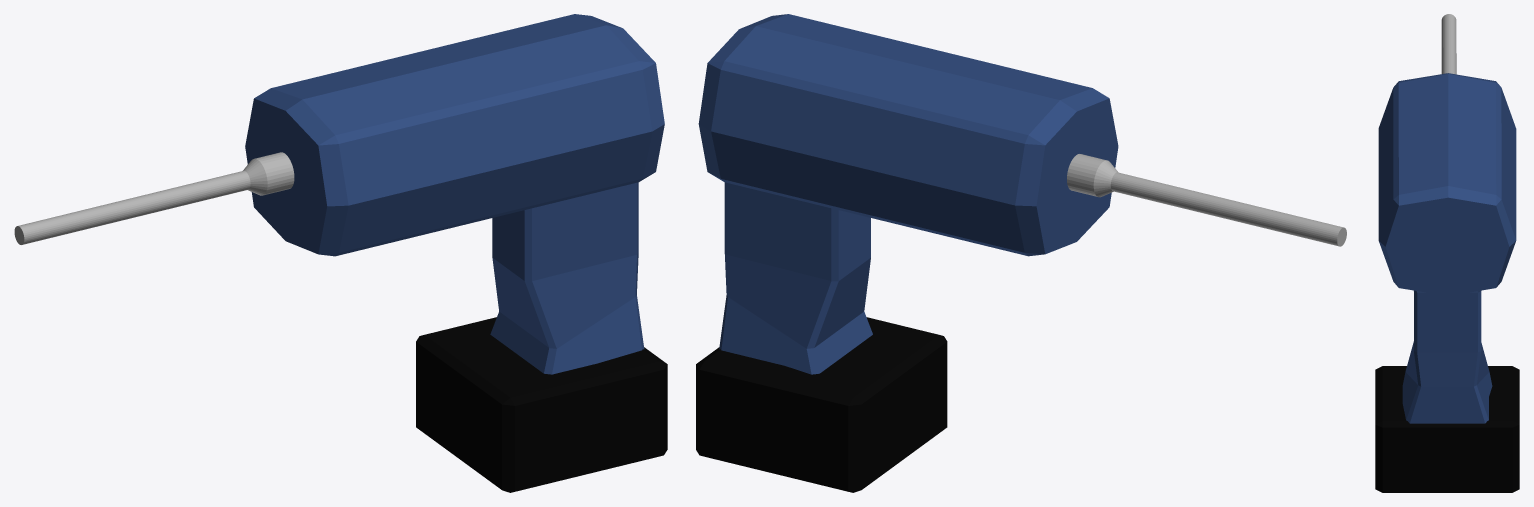
File: Drill1.fbx
3 renders of one model, left to right at view 1: azimuth 30°, elevation 25°; view 2: azimuth 150°, elevation 25°; view 3: azimuth 270°, elevation 25°, orthographic. The views are drawn at different scales.
Parts seen in each view (by area): view 1: Drill.001; view 2: Drill.001; view 3: Drill.001.
Part boxes in pixels (x1=…): Drill.001: x1=14, y1=14, x2=667, y2=492; Drill.001: x1=696, y1=14, x2=1346, y2=492; Drill.001: x1=1375, y1=14, x2=1519, y2=492.
Bounding box in the file's own units: 366 × 100 × 233.
